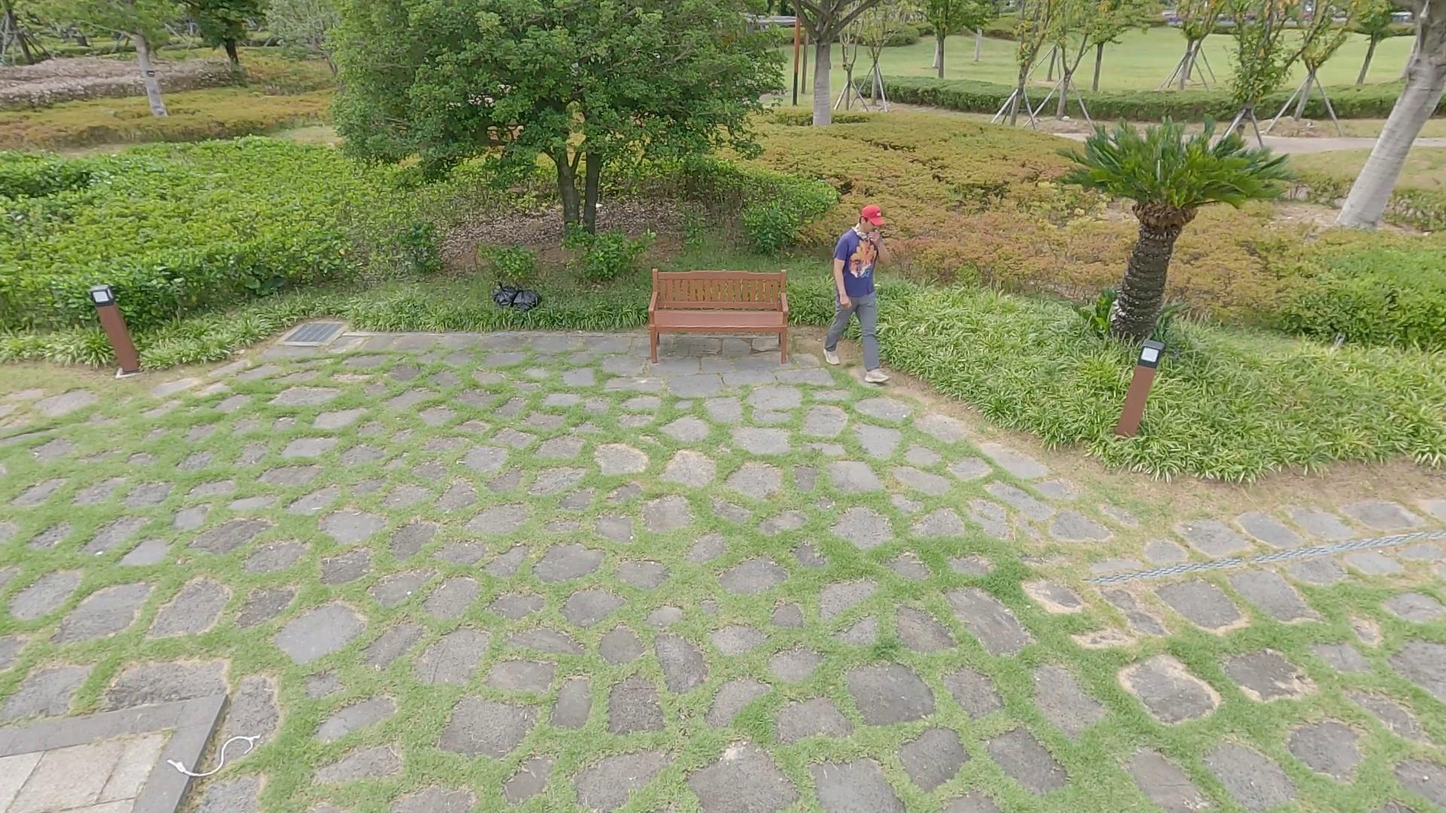person: (824, 206, 900, 383)
trash: (495, 280, 523, 311), (513, 285, 543, 313)
